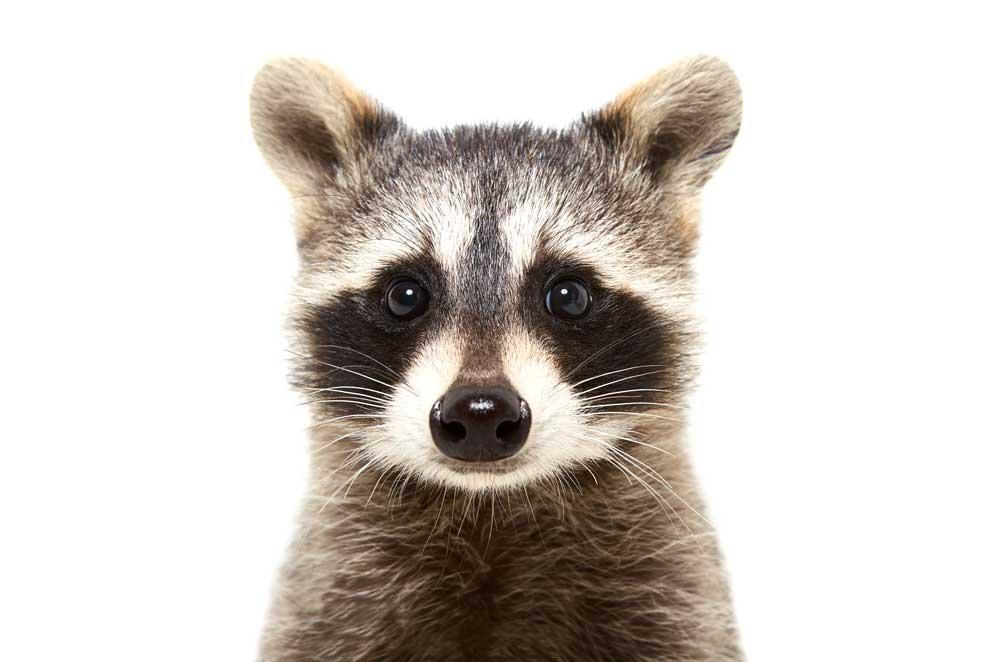raccoon: (244, 48, 756, 662)
